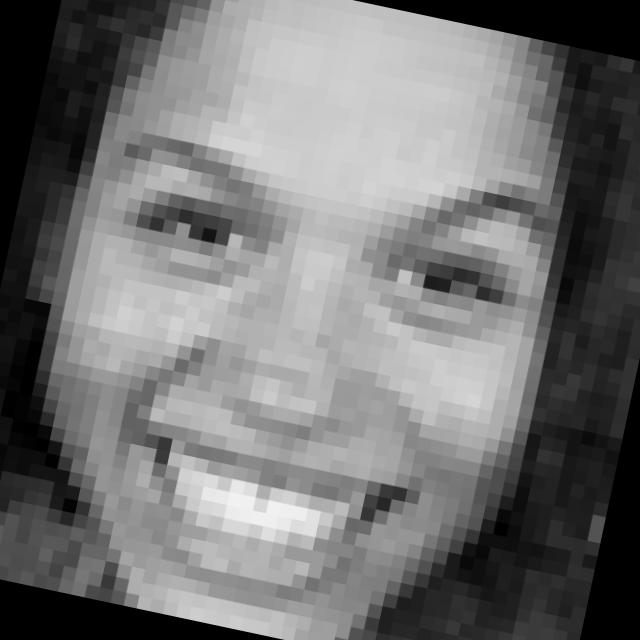happy: (17, 100, 570, 640)
